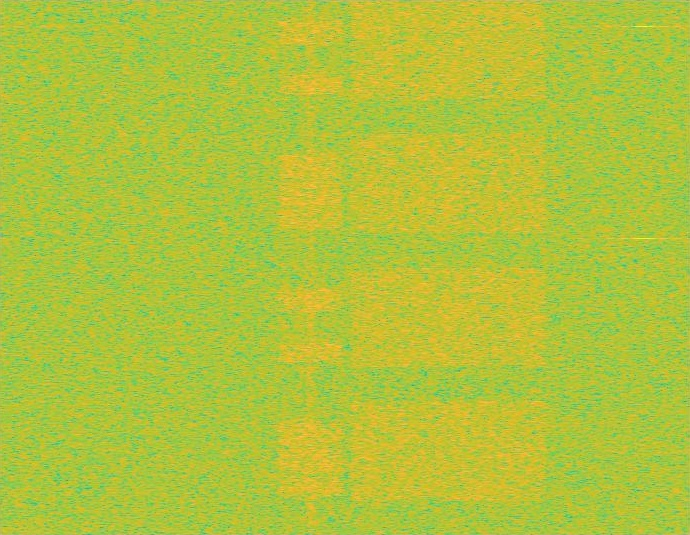5G: (345, 0, 552, 534)
DSSS: (306, 0, 315, 534)
LTE: (276, 0, 345, 534)
Radar: (637, 0, 651, 534)
